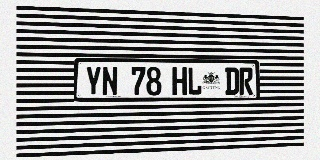7: (130, 67, 146, 96)
8: (146, 67, 161, 95)
D: (225, 67, 239, 95)
H: (172, 67, 187, 95)
L: (187, 67, 202, 95)
N: (102, 66, 118, 96)
R: (239, 67, 253, 95)
Y: (85, 66, 101, 96)
